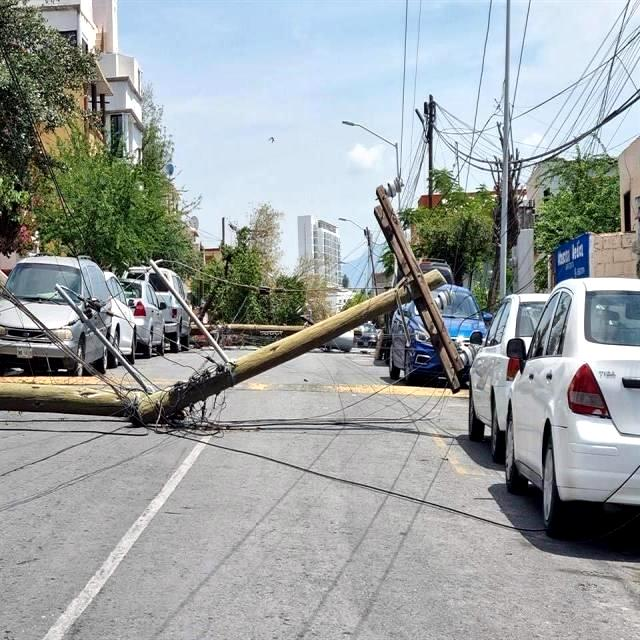Broken Pole: (0, 177, 465, 425)
